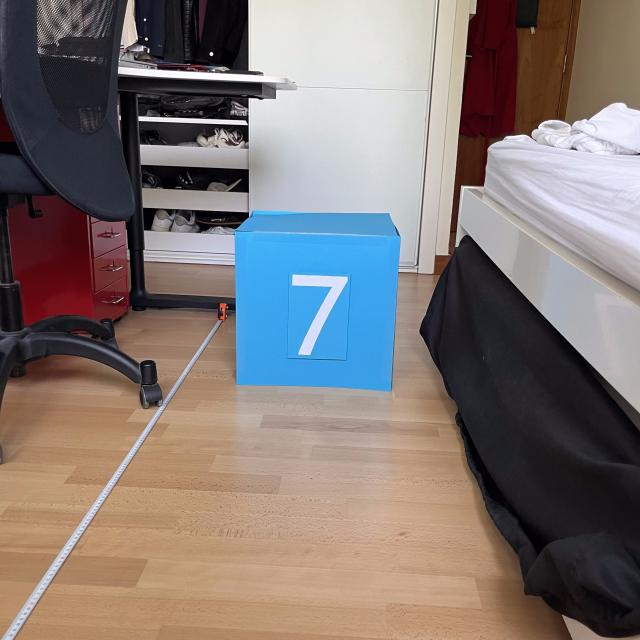box: (229, 205, 404, 394)
